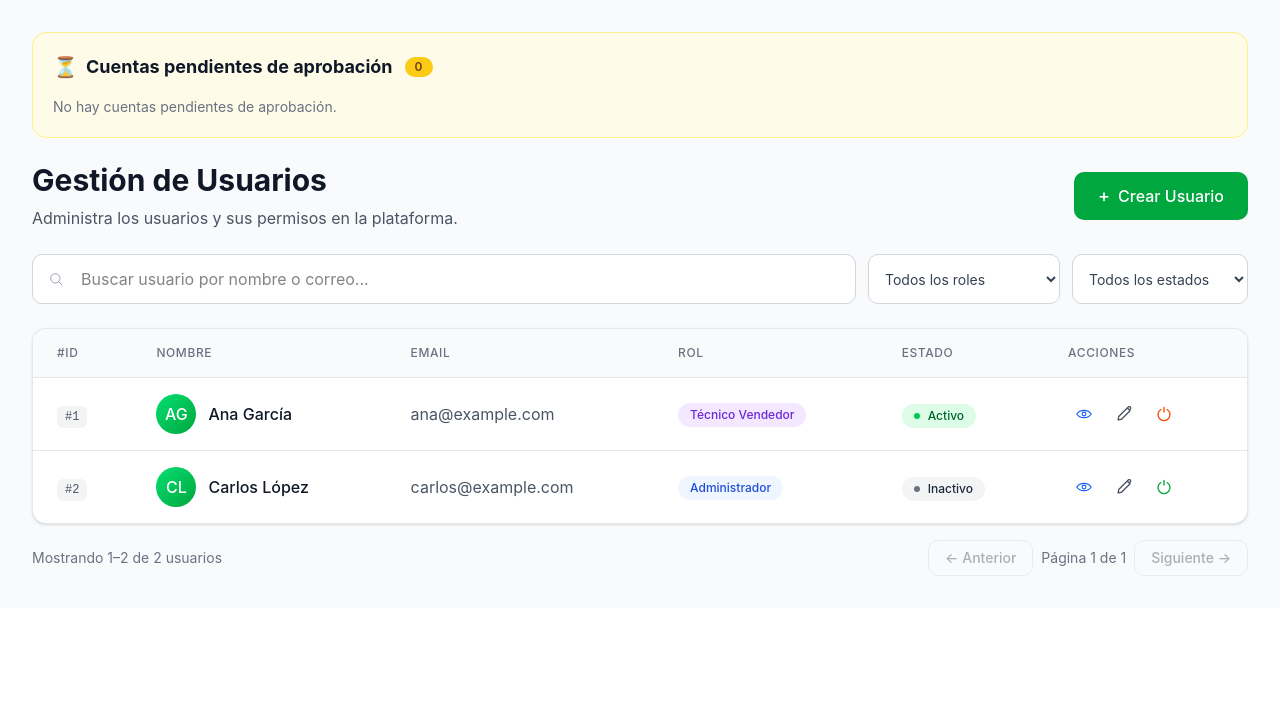
Scenario: GestionUsuariosPanel › opens user detail modal when view button is clicked
The image size is (1280, 720).
Click the 1st button with test id "view-user-button". click: (1084, 414)
box: x1=1068 y1=398 x2=1100 y2=430
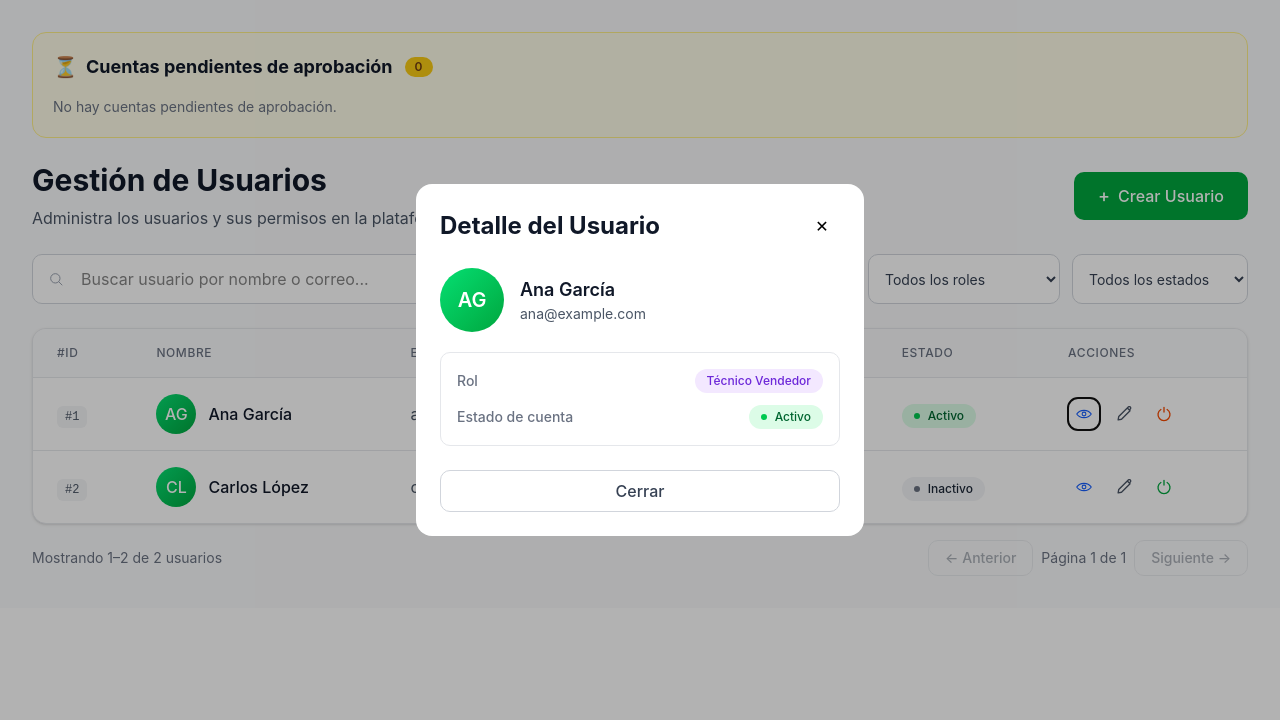
expect the element with test id "user-detail-modal" is shown: met, box x1=416 y1=184 x2=864 y2=536
expect the heading "Detalle del Usuario" is shown: met, box x1=440 y1=210 x2=660 y2=242
